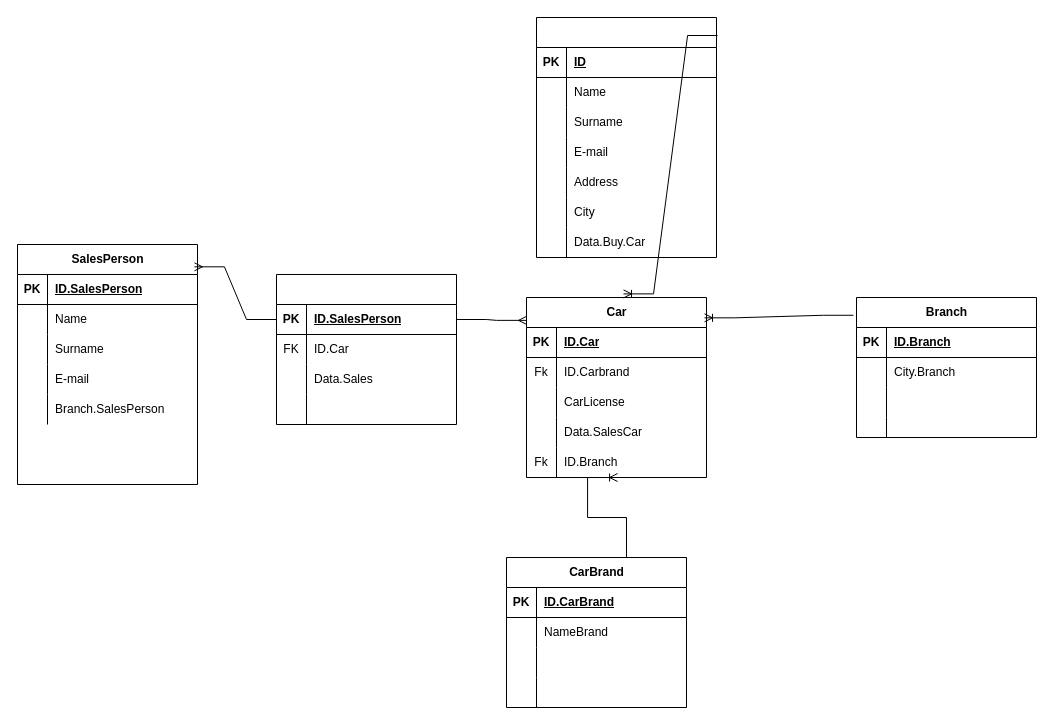
This 1054x725 diagram has some shape labels left out. The shapes that lost their labels are listed below. From the top down, each one's box as (x1, y1, x2, y2) in pixels, then its label:
(536, 16, 716, 258): Customer
(276, 274, 456, 424): Sales.Car
